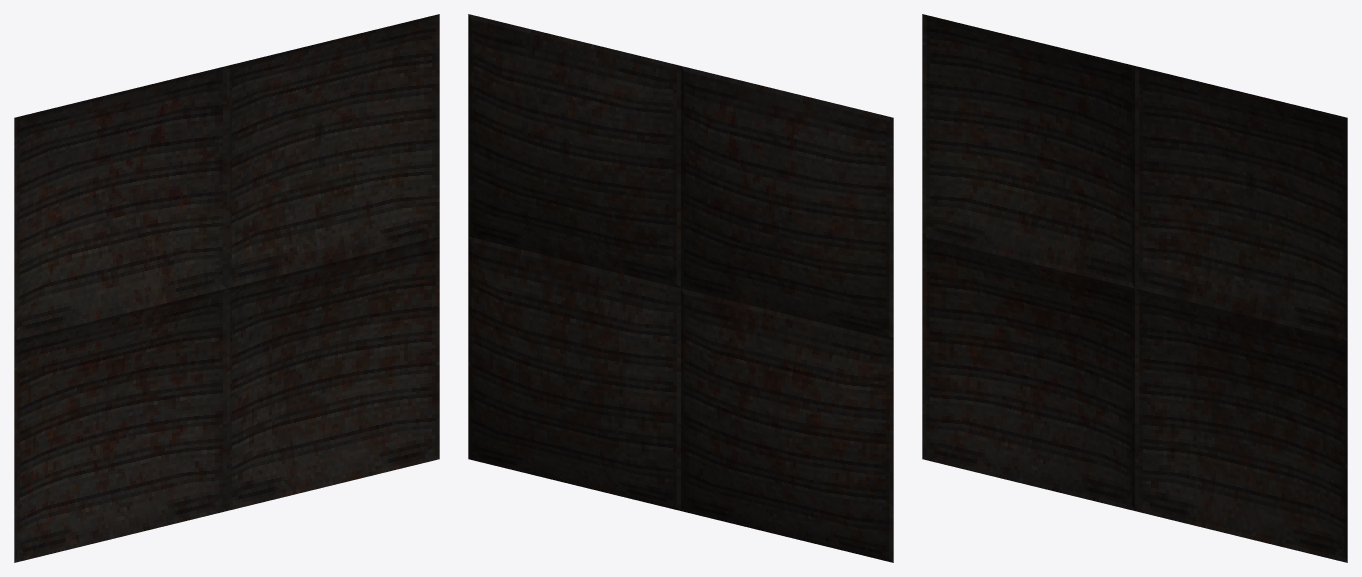
Rendered from wall_8.glb.
The picture shows the model from 3 angles, left to right: view 1: azimuth 30°, elevation 25°; view 2: azimuth 150°, elevation 25°; view 3: azimuth 330°, elevation 25°; orthographic projection.
Visible parts, largest first — view 1: wall_8; view 2: wall_8; view 3: wall_8.
Boxes of the visible parts, <box> form: wall_8: <box>14,14,439,562</box>; wall_8: <box>468,14,893,562</box>; wall_8: <box>922,14,1347,562</box>.
Size of the model in its own units: 2 by 2 by 0.1.
1 material, 1 textured.
